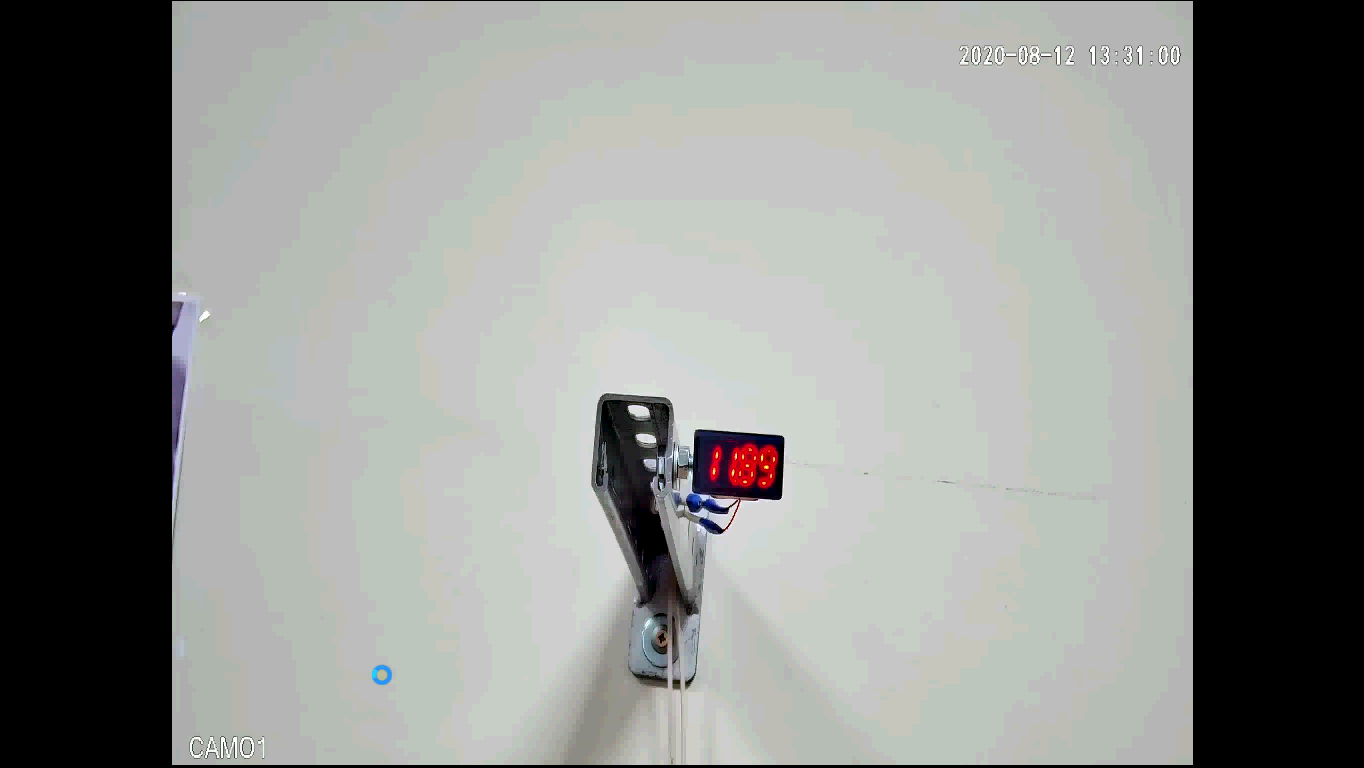one: (707, 442, 721, 486), (728, 444, 738, 489)
